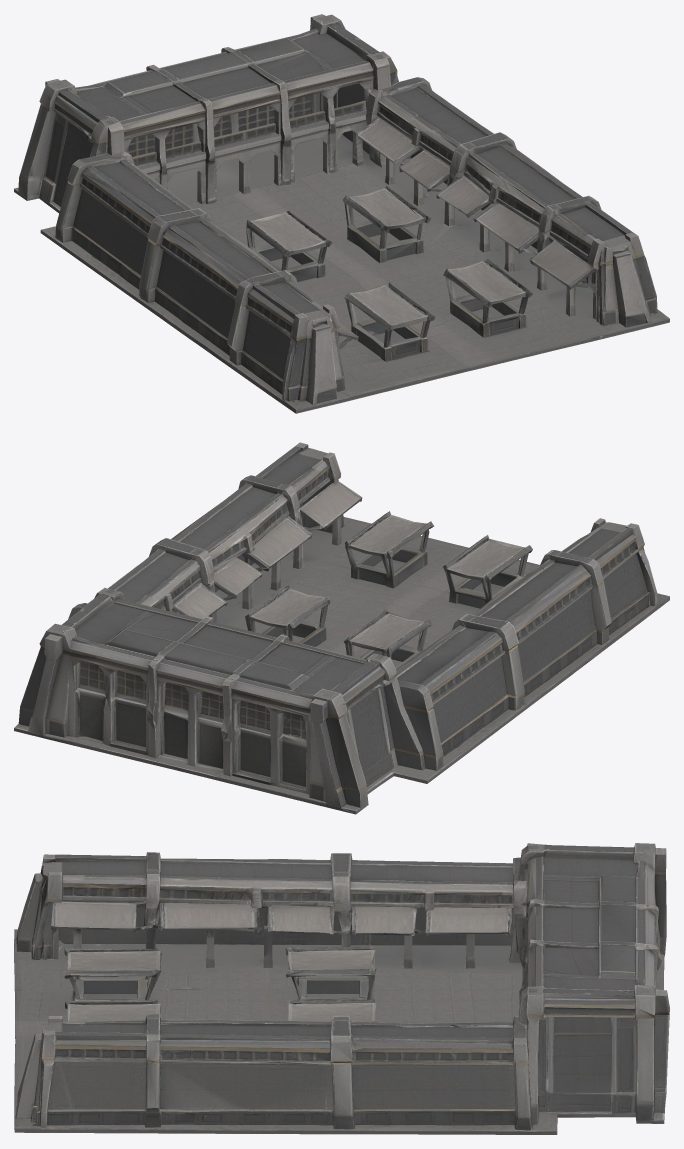
Rendered from imperial_market_district_lod1.glb.
3 renders of one model, top to bottom at view 1: azimuth 30°, elevation 25°; view 2: azimuth 150°, elevation 25°; view 3: azimuth 270°, elevation 25°, orthographic. The views are drawn at different scales.
Parts seen in each view (by area): view 1: mesh_node; view 2: mesh_node; view 3: mesh_node.
Part boxes in pixels (bbox=[...]): mesh_node: bbox=[14, 14, 669, 413]; mesh_node: bbox=[14, 442, 669, 814]; mesh_node: bbox=[14, 843, 669, 1134].
Bounding box in the file's own units: 34.03 × 8.9 × 46.07.
Materials: 1 (1 with a texture image).
